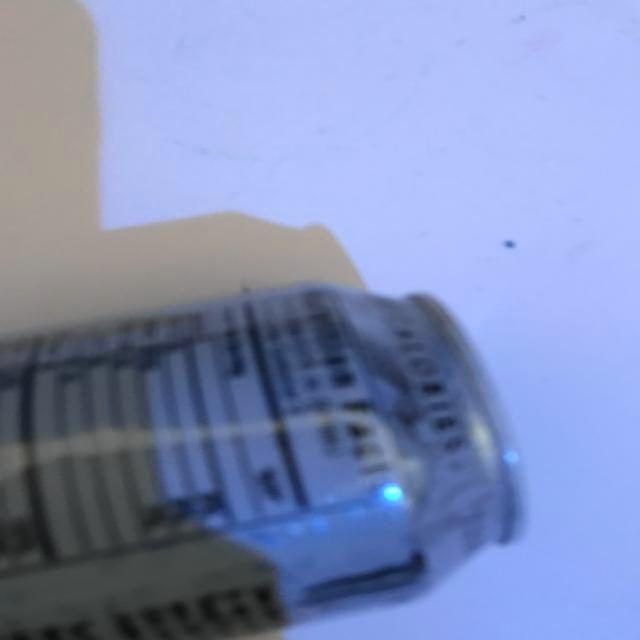metal: (0, 276, 552, 640)
